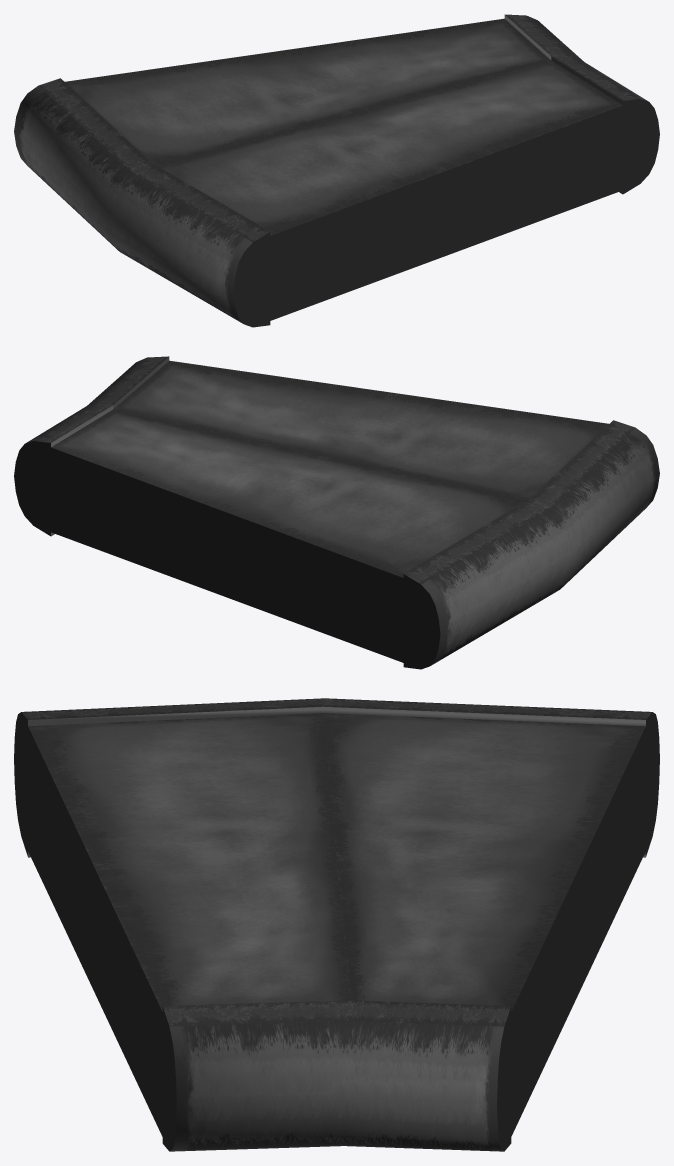
File: platformcurved.fbx
3 views of the same model, one above another, from view 1: azimuth 30°, elevation 25°; view 2: azimuth 150°, elevation 25°; view 3: azimuth 270°, elevation 25° (orthographic). The views are drawn at different scales.
Parts seen in each view (by area): view 1: Cube.015; view 2: Cube.015; view 3: Cube.015.
Part boxes in pixels (box(x1,y1,x2,y2)): Cube.015: box(14, 14, 659, 327); Cube.015: box(14, 356, 659, 669); Cube.015: box(14, 698, 659, 1151).
Bounding box in the file's own units: 2467 × 440 × 1872.
